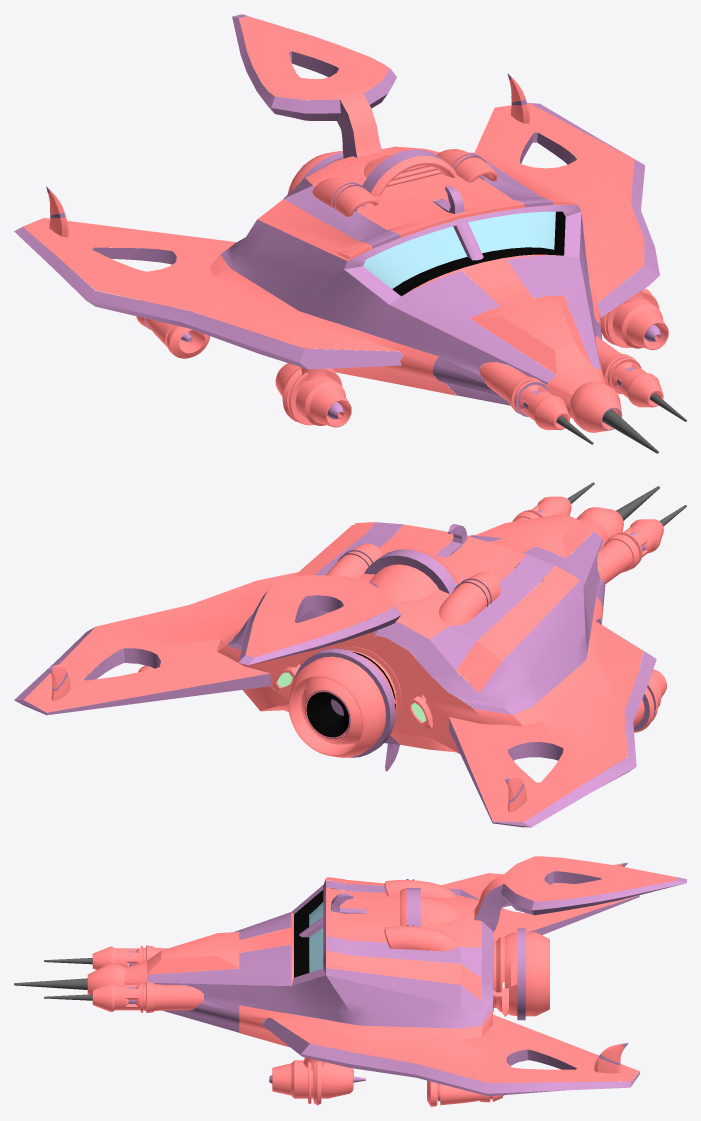
Rendered from red-pur.gltf.
3 views of the same model, one above another, from view 1: azimuth 30°, elevation 25°; view 2: azimuth 150°, elevation 25°; view 3: azimuth 270°, elevation 25° (orthographic). The views are drawn at different scales.
Parts seen in each view (by area): view 1: Cube005_2, Cube005_1, Cube005_6, Cube005_3, Cube005_5; view 2: Cube005_2, Cube005_1, Cube005_3, Cube005_5; view 3: Cube005_2, Cube005_1, Cube005_3, Cube005_5, Cube005_6.
Part boxes in pixels (x1,y1,x2,y2): Cube005_2: (23, 16, 668, 432); Cube005_1: (14, 14, 660, 430); Cube005_6: (363, 211, 555, 288); Cube005_3: (392, 211, 565, 296); Cube005_5: (556, 393, 686, 453); Cube005_2: (24, 496, 666, 822); Cube005_1: (14, 510, 656, 827); Cube005_3: (306, 553, 542, 737); Cube005_5: (567, 482, 686, 526); Cube005_2: (87, 856, 676, 1106); Cube005_1: (128, 862, 686, 1096); Cube005_3: (294, 888, 334, 977); Cube005_5: (14, 958, 92, 1000); Cube005_6: (309, 889, 337, 972).
Bounding box in the file's own units: 3.63 × 1.36 × 4.75.
